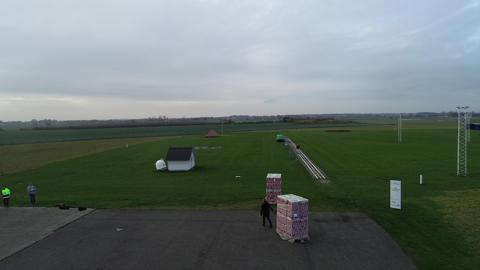RockwoolPallet: (266, 172, 282, 204)
